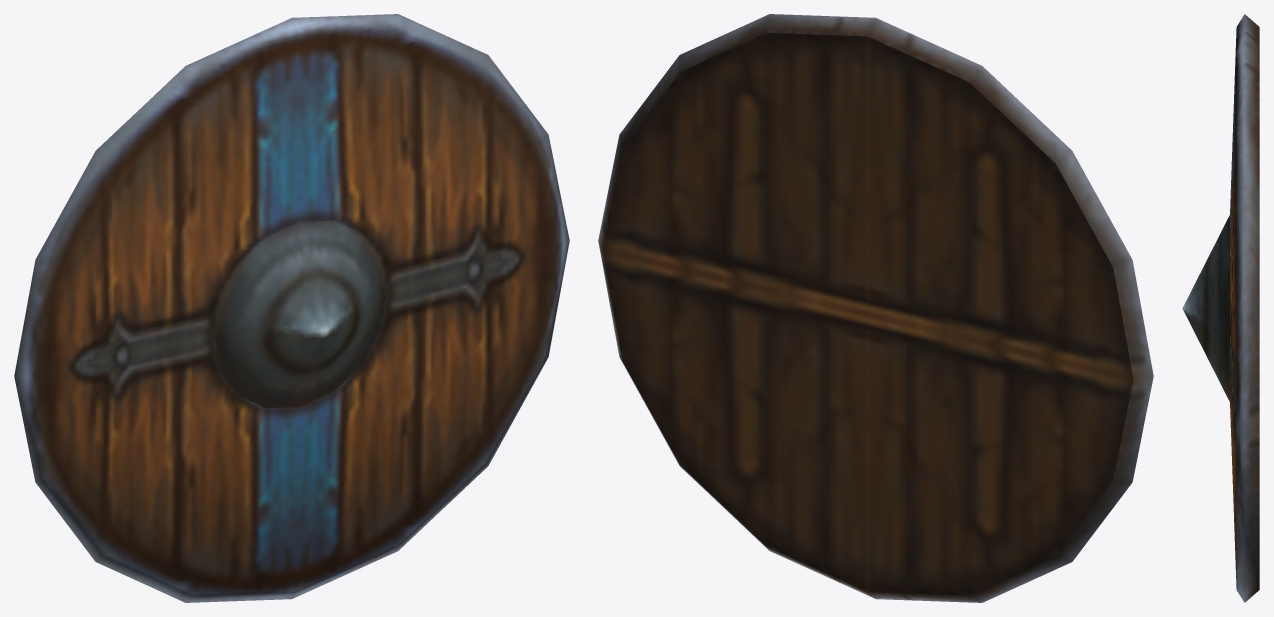
The model's file is Shield03.FBX.
The picture shows the model from 3 angles, left to right: view 1: azimuth 30°, elevation 25°; view 2: azimuth 150°, elevation 25°; view 3: azimuth 270°, elevation 25°; orthographic projection. The views are drawn at different scales.
Visible parts, largest first — view 1: Shield03; view 2: Shield03; view 3: Shield03.
Boxes of the visible parts, x1,y1,x2,y2 form: Shield03: (14, 14, 569, 602); Shield03: (598, 14, 1153, 602); Shield03: (1182, 14, 1259, 602).
Size of the model in its own units: 59.32 by 59.32 by 7.76.
